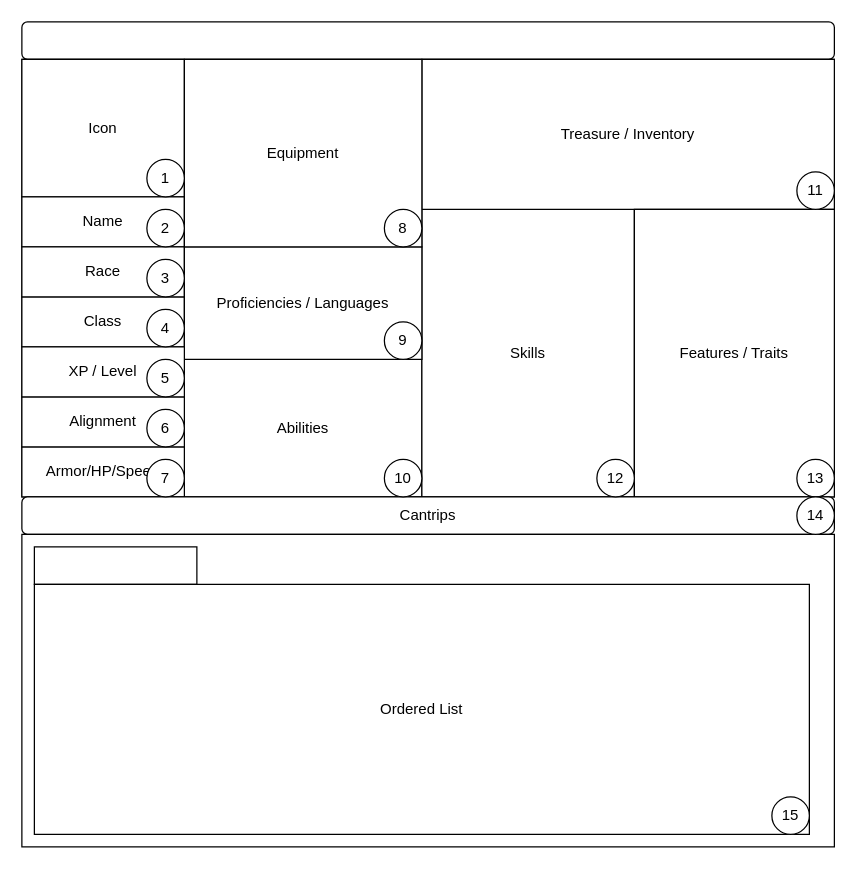
The diagram is 856 pixels wide and 869 high, and some of its shapes have lost their labels. The shapes that lost their labels are listed below. From the top down, each one's centre as x and y in pixels, then its label:
At point (427, 40): "http://localhost:3000/create_character".
At point (115, 565): "Spell-Casting Class".
